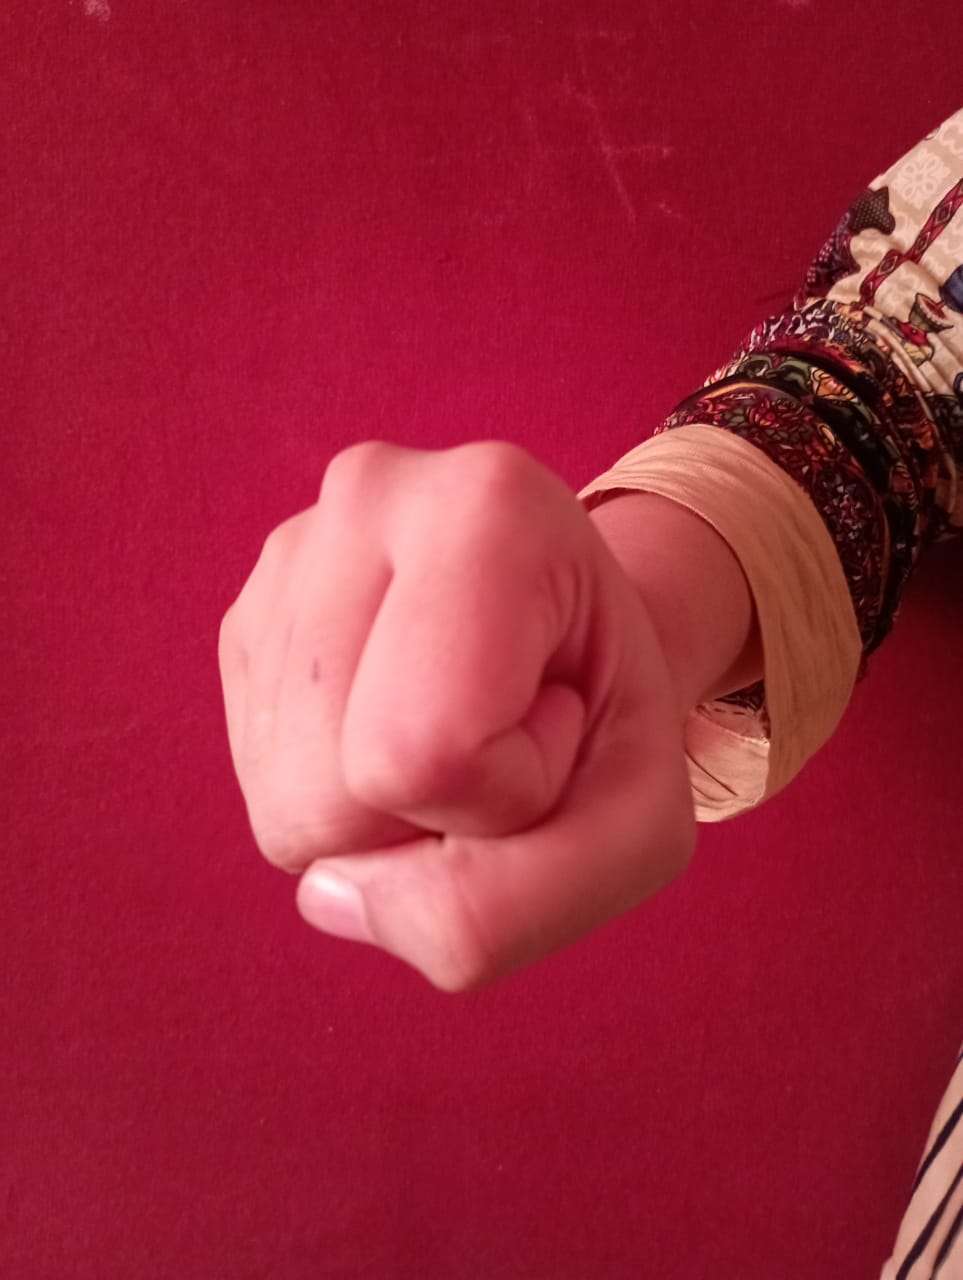BroCode: (162, 431, 713, 1023)
